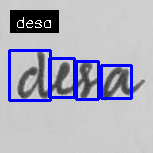a: (98, 63, 131, 104)
d: (15, 49, 48, 104)
e: (52, 60, 75, 100)
s: (77, 58, 95, 102)
